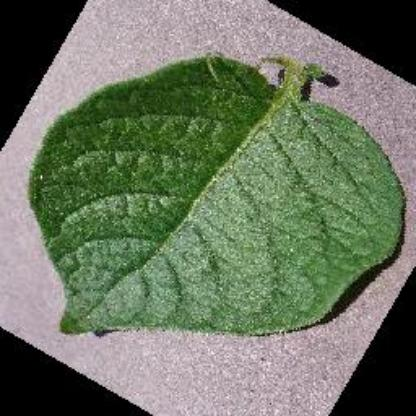Healthy-plant: (30, 40, 412, 380)
